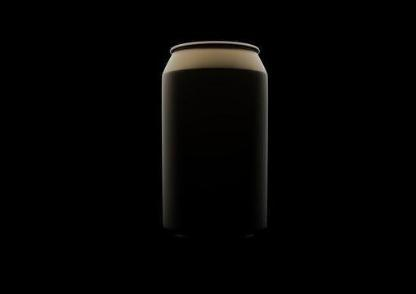Can: (160, 38, 270, 244)
